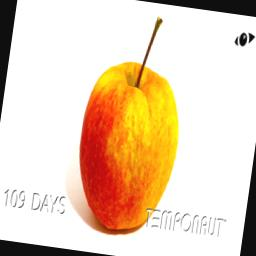Apple Unripe: (67, 0, 198, 241)
